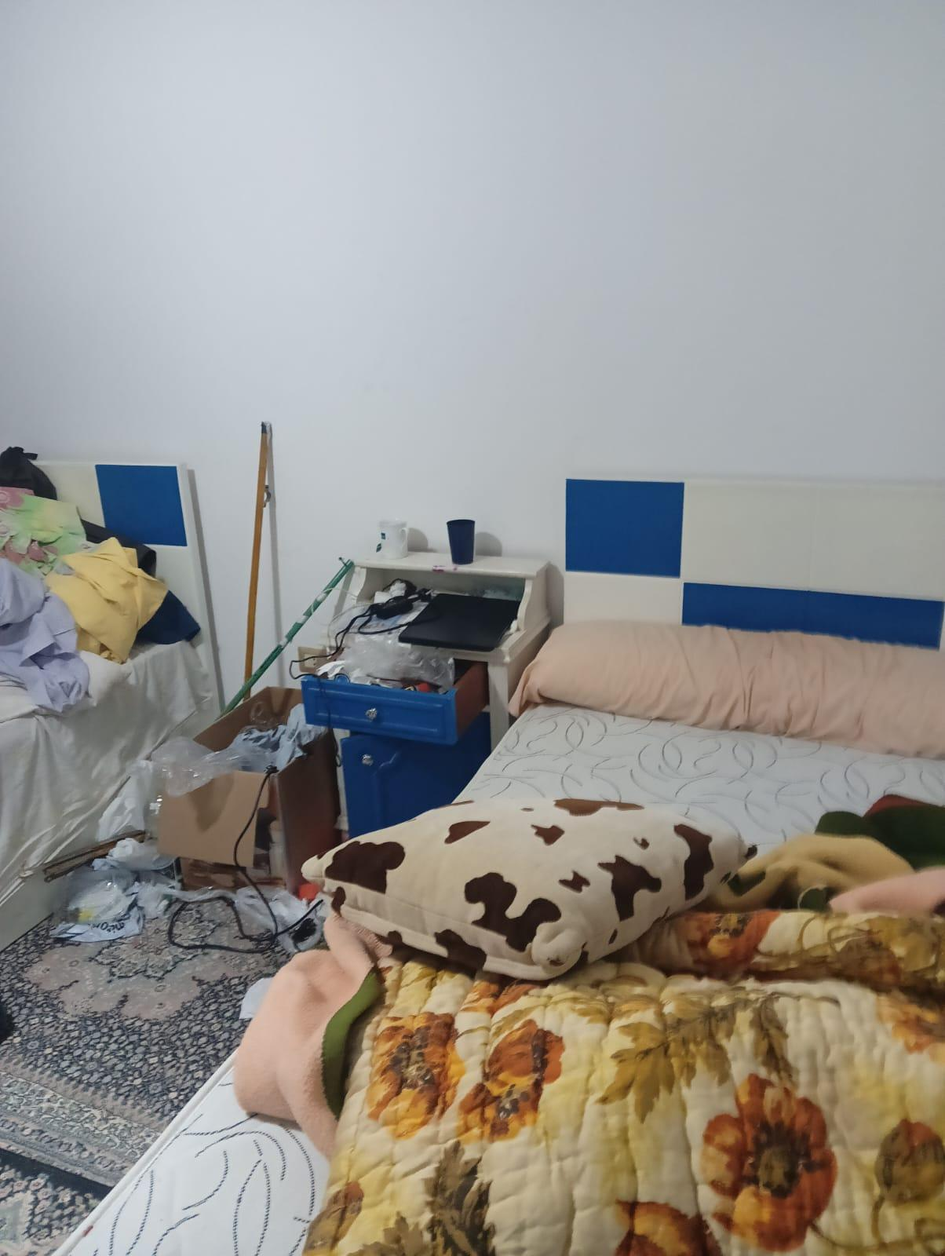cup: (447, 519, 474, 564), (377, 520, 407, 558)
